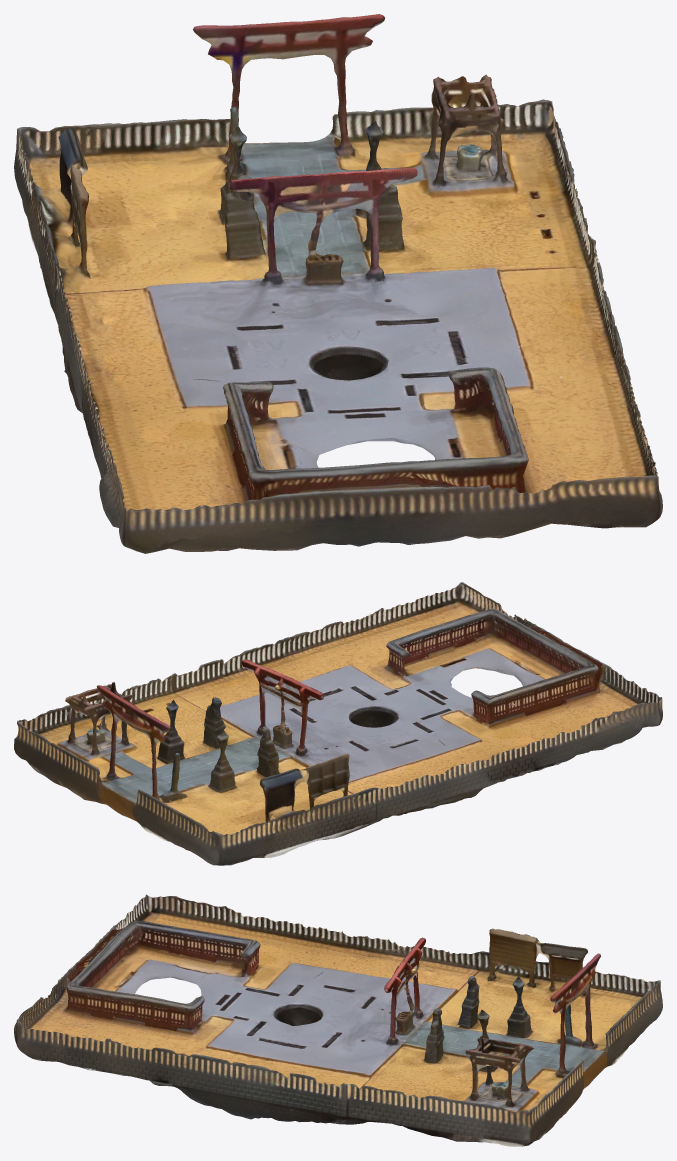
Rendered from zimen.glb.
3 views of the same model, one above another, from view 1: azimuth 30°, elevation 25°; view 2: azimuth 150°, elevation 25°; view 3: azimuth 270°, elevation 25° (orthographic). The views are drawn at different scales.
Visible parts, largest first — view 1: 30c167f6-3dde-41f4-8cdf-67382766d0ec; view 2: 30c167f6-3dde-41f4-8cdf-67382766d0ec; view 3: 30c167f6-3dde-41f4-8cdf-67382766d0ec.
Boxes of the visible parts, box(x1,y1,x2,y2) form: 30c167f6-3dde-41f4-8cdf-67382766d0ec: box(14, 14, 662, 553); 30c167f6-3dde-41f4-8cdf-67382766d0ec: box(14, 582, 662, 865); 30c167f6-3dde-41f4-8cdf-67382766d0ec: box(14, 894, 662, 1146).
Bounding box in the file's own units: 0.7919 × 0.2062 × 0.9681.
1 material, 1 textured.
